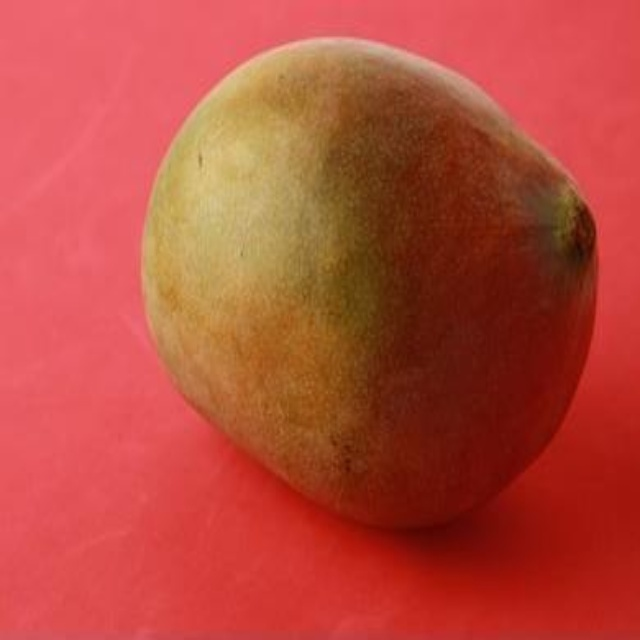mango: (151, 35, 608, 537)
